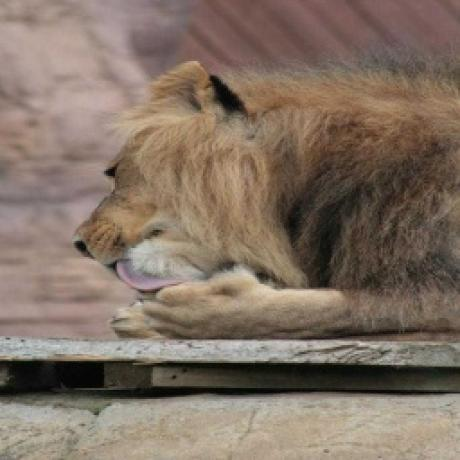Lion: (72, 55, 460, 345)
